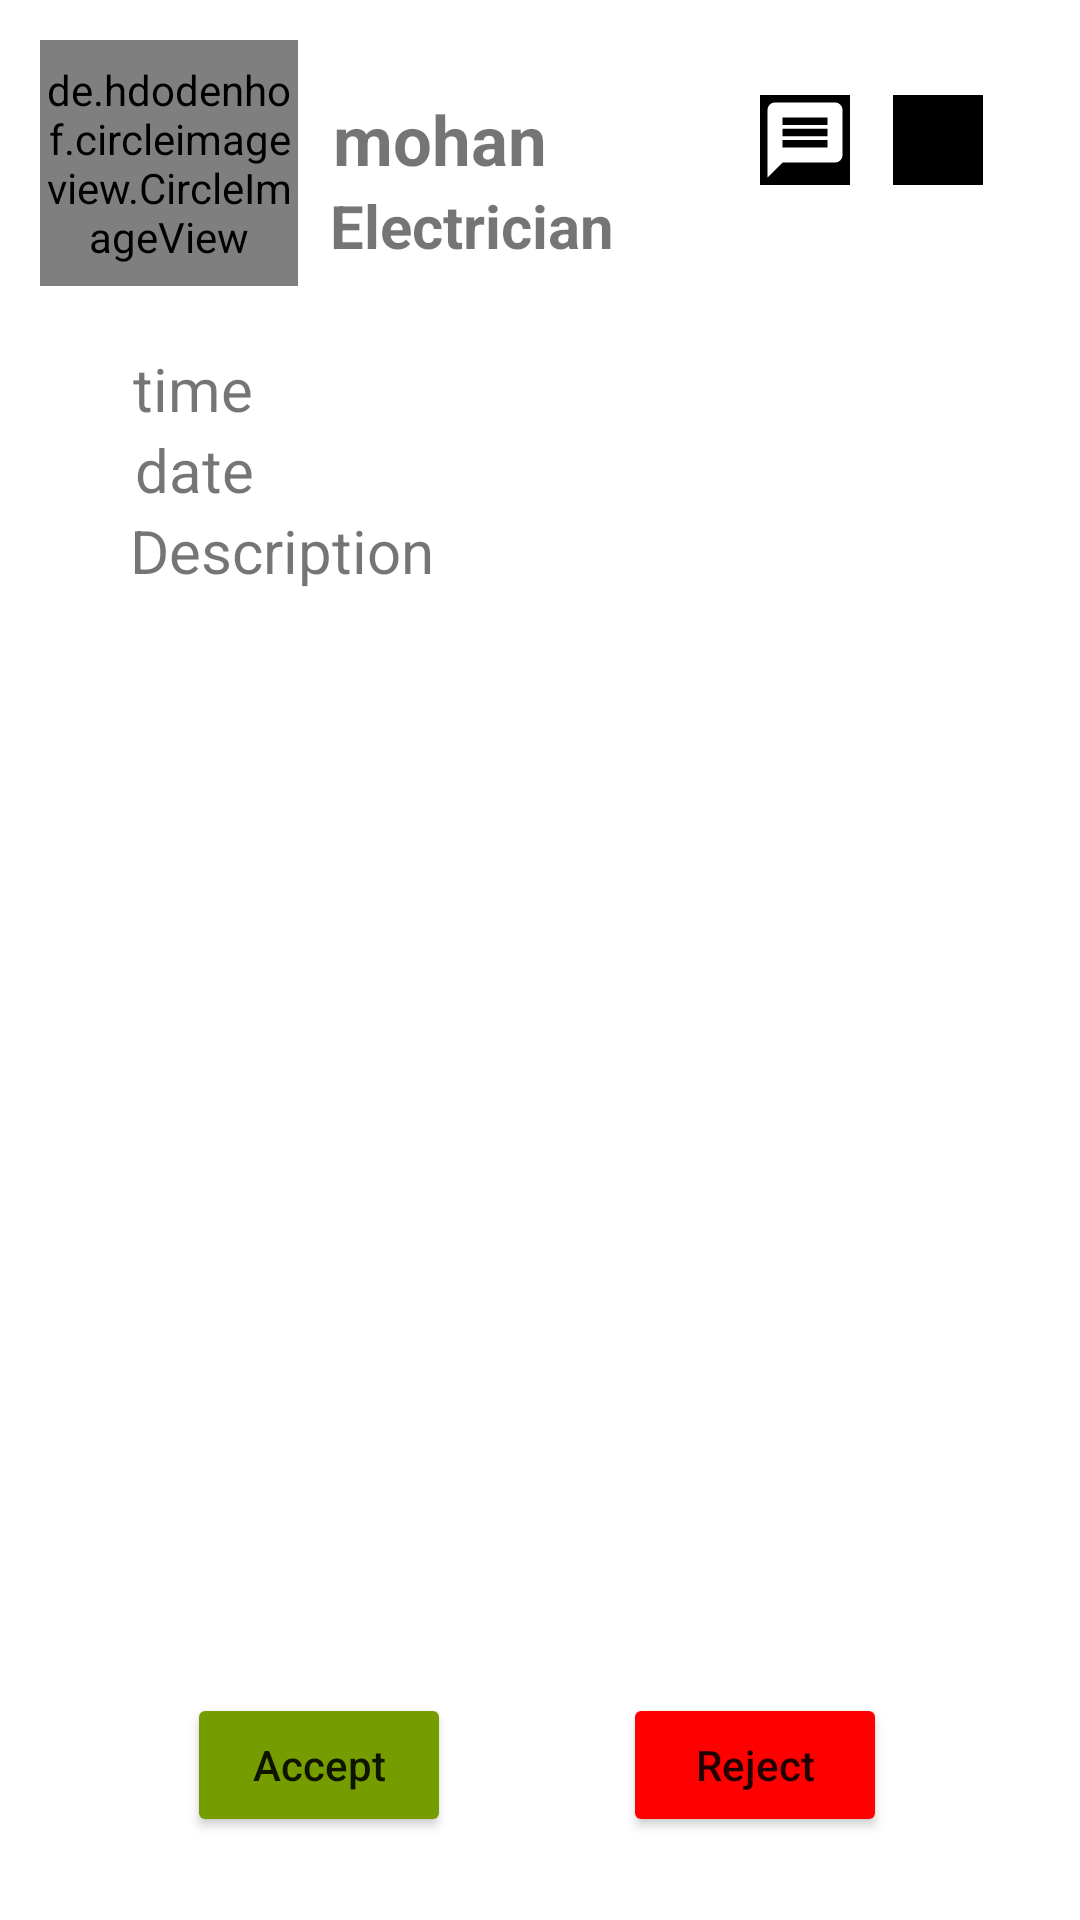

Icon bounding boxes for this 1080w x 1920h phone screenshot, format (x1, y1, x2, y2):
message: (760, 95, 850, 185)
